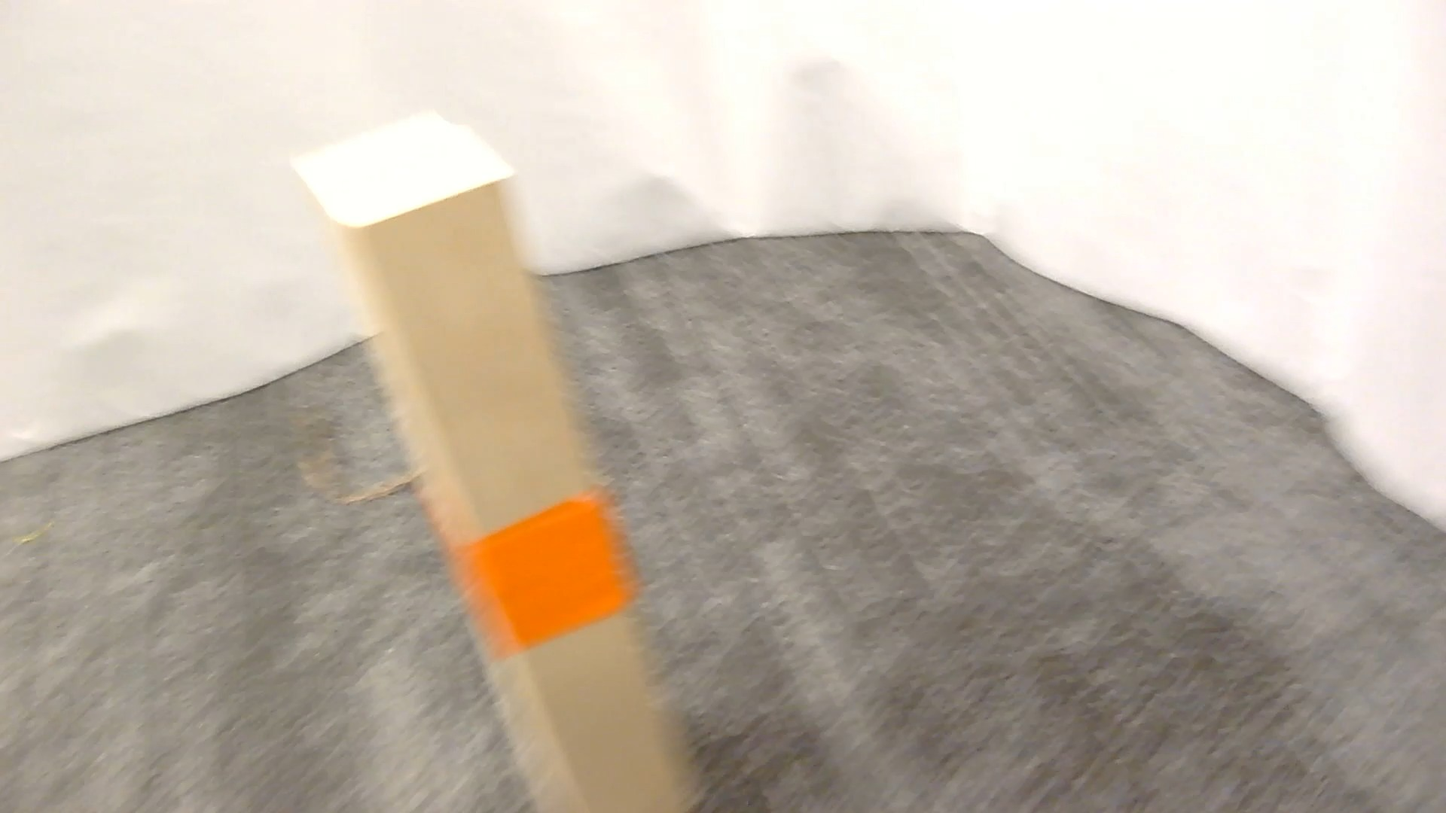Wooden Block: (294, 114, 691, 812)
